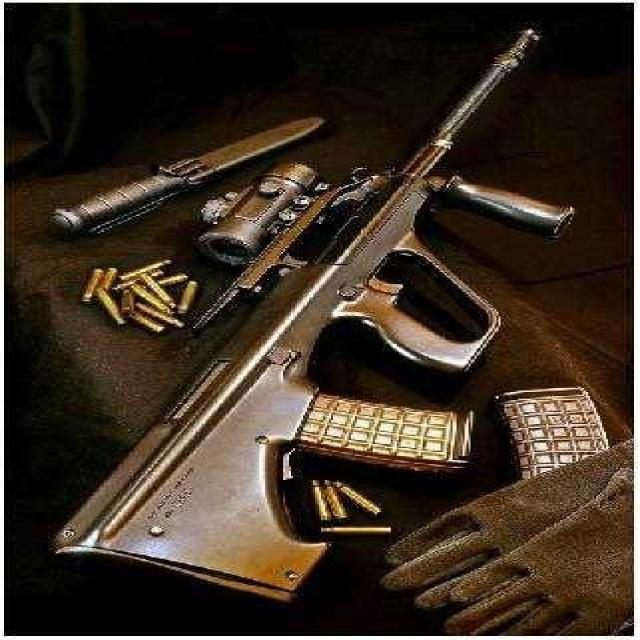heavyweapon: (29, 8, 591, 600)
